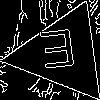E: (37, 28, 79, 79)
